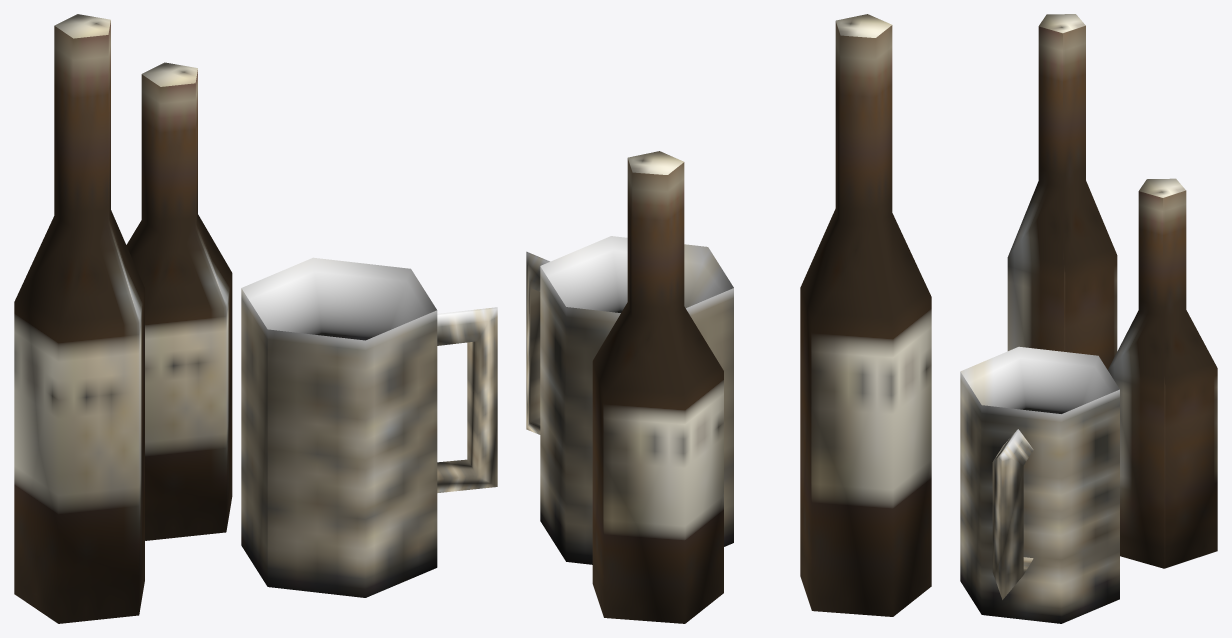
3 renders of one model, left to right at view 1: azimuth 30°, elevation 25°; view 2: azimuth 150°, elevation 25°; view 3: azimuth 270°, elevation 25°, orthographic. The views are drawn at different scales.
Parts seen in each view (by area): view 1: a50; view 2: a50; view 3: a50.
Part boxes in pixels (x1,y1,x2,y2): a50: (14, 14, 497, 623); a50: (526, 14, 931, 623); a50: (960, 14, 1217, 623).
Size of the model in its own units: 121 by 157 by 77.63.
